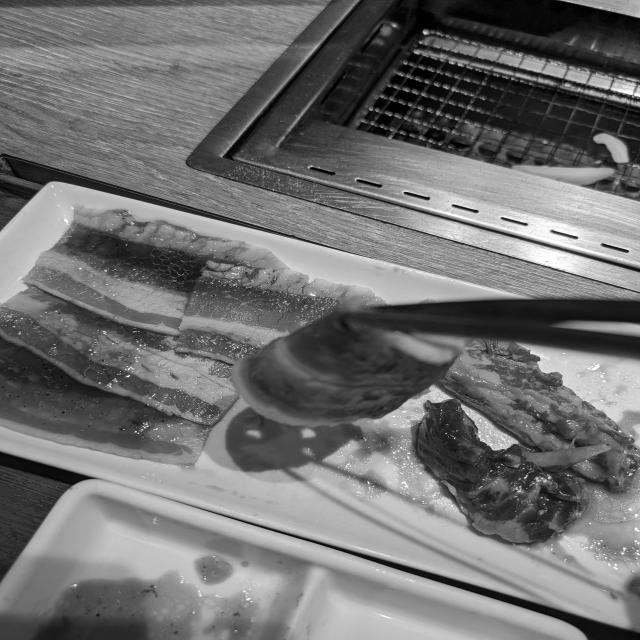NG raw beef,: (15, 201, 291, 343), (0, 284, 241, 434), (441, 327, 640, 508), (410, 394, 614, 556), (0, 330, 216, 478)
